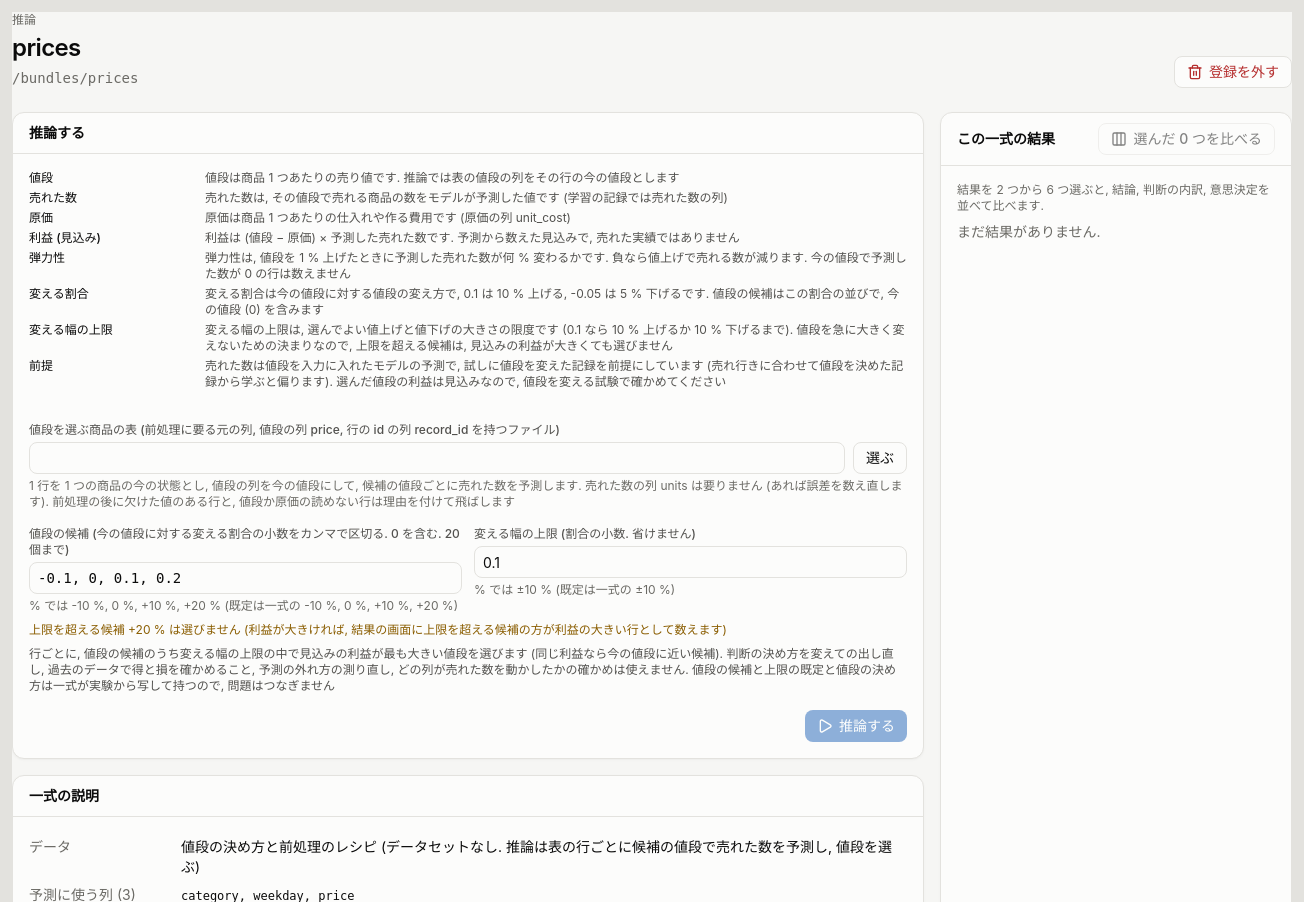
Test: 値段の一式の画面 › 候補と上限を確かめ, 行の表と値段の判断を渡して推論する
Later steps or results of the test are not shown.
Type "/data/products.csv" into the field labelled "値段を選ぶ商品の表" at (437, 458), box [29,442,845,474]
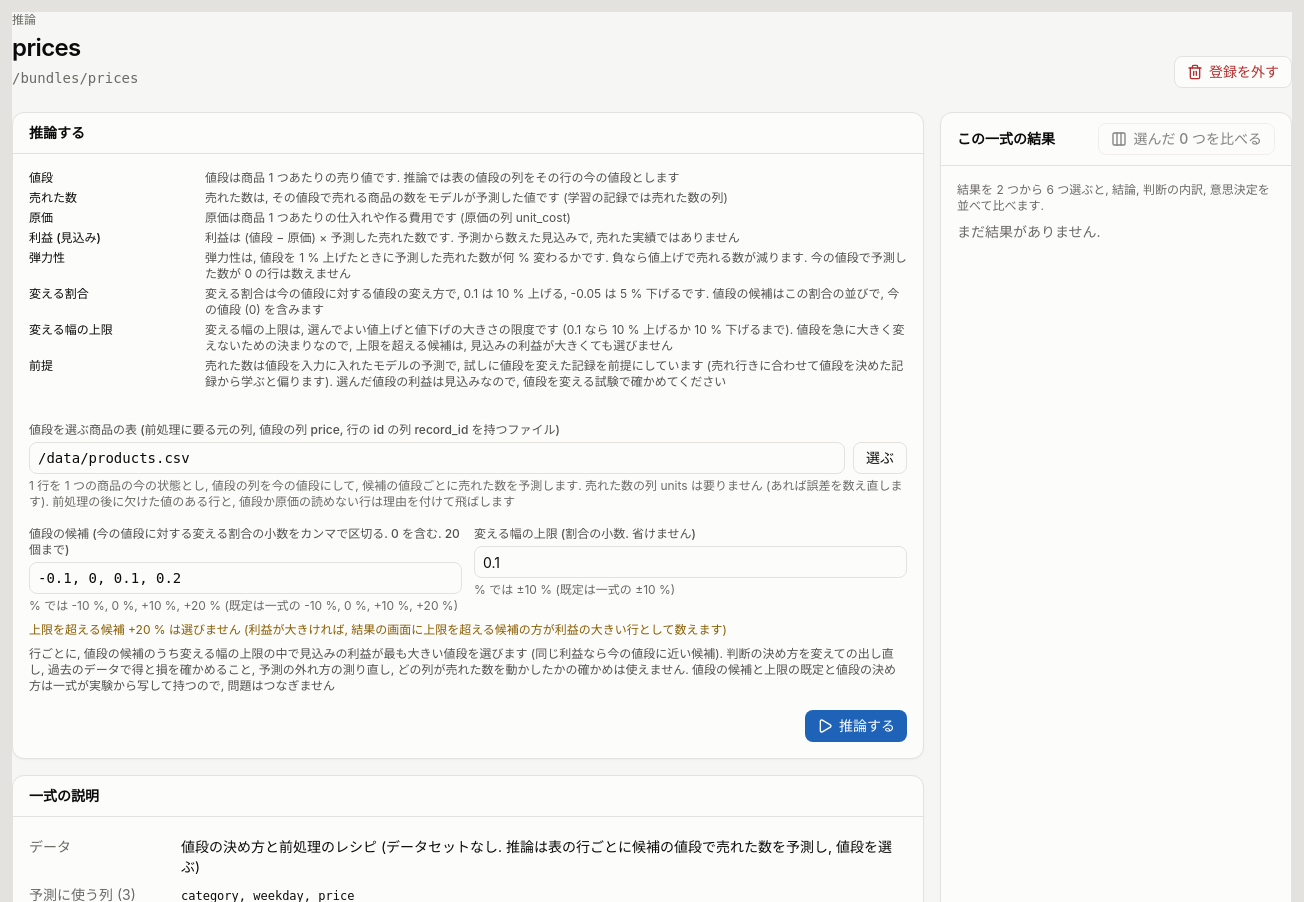
Replace the text in the field labelled "値段の候補 (今の値段に対する変える割合の小数をカンマで区切る. 0 を含む. 20 個まで)" with "0.1, 0.2" at (246, 578), box [29,562,462,594]
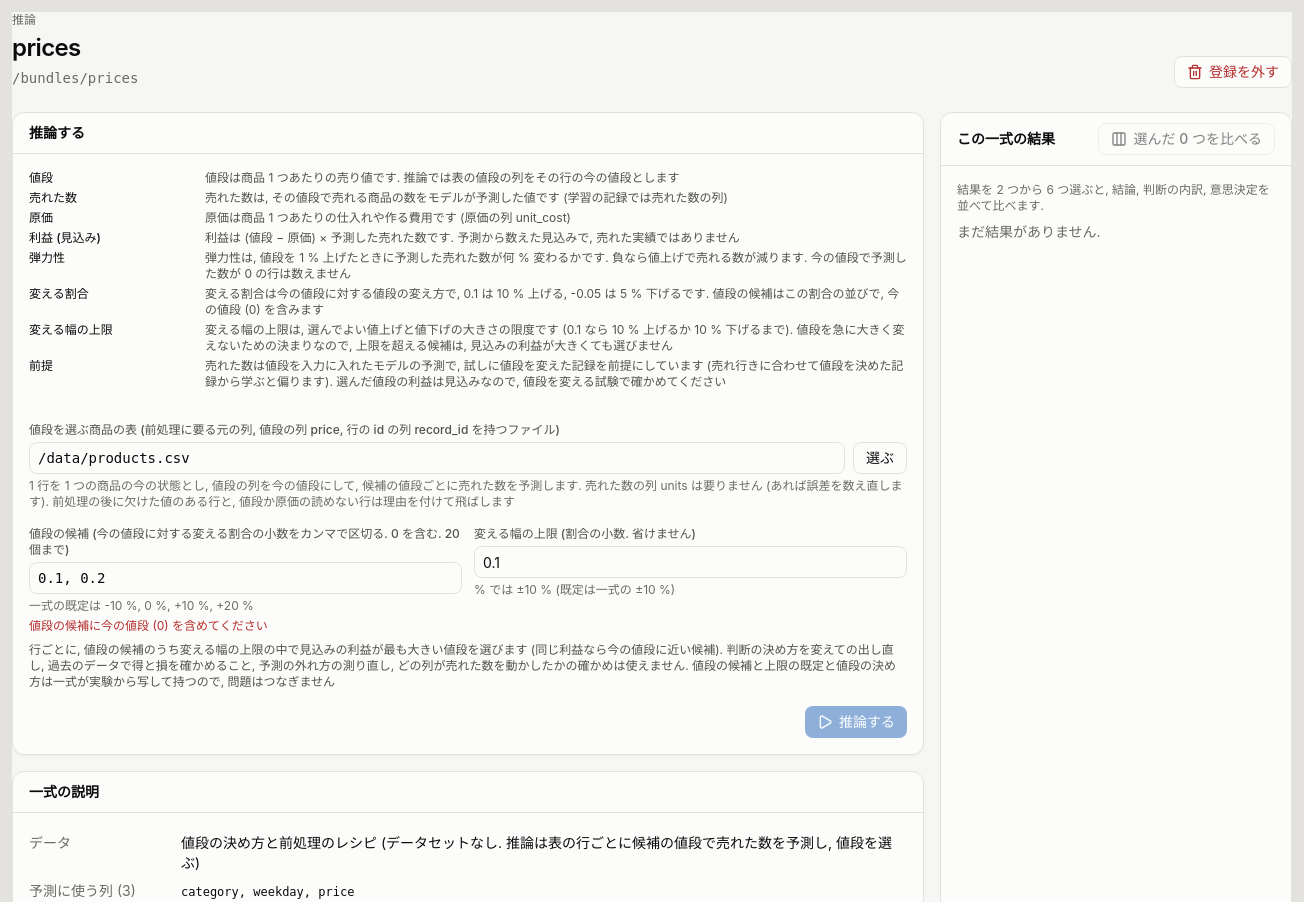
Expected: the text "一式の既定は -10 %, 0 %, +10 %, +20 %" is shown, [29,598,254,613]
Expected: the button "推論する" is disabled, [805,706,907,738]
Replace the text in the field labelled "値段の候補 (今の値段に対する変える割合の小数をカンマで区切る. 0 を含む. 20 個まで)" with "-0.05, 0, 0.05, 0.2" at (246, 578), box [29,562,462,594]
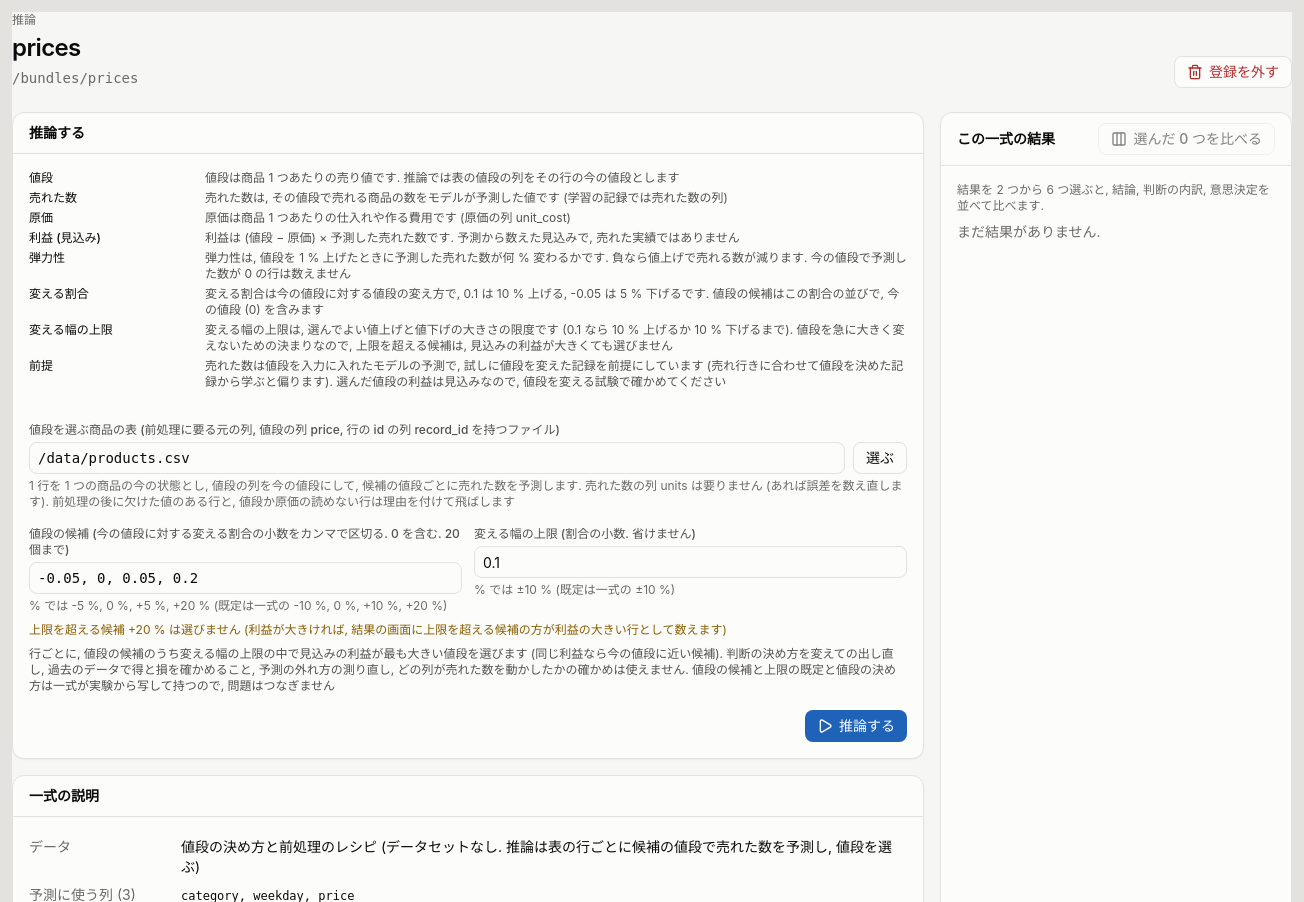
Clear the number field labelled "変える幅の上限 (割合の小数. 省けません)" at (690, 562), box [474,546,907,578]
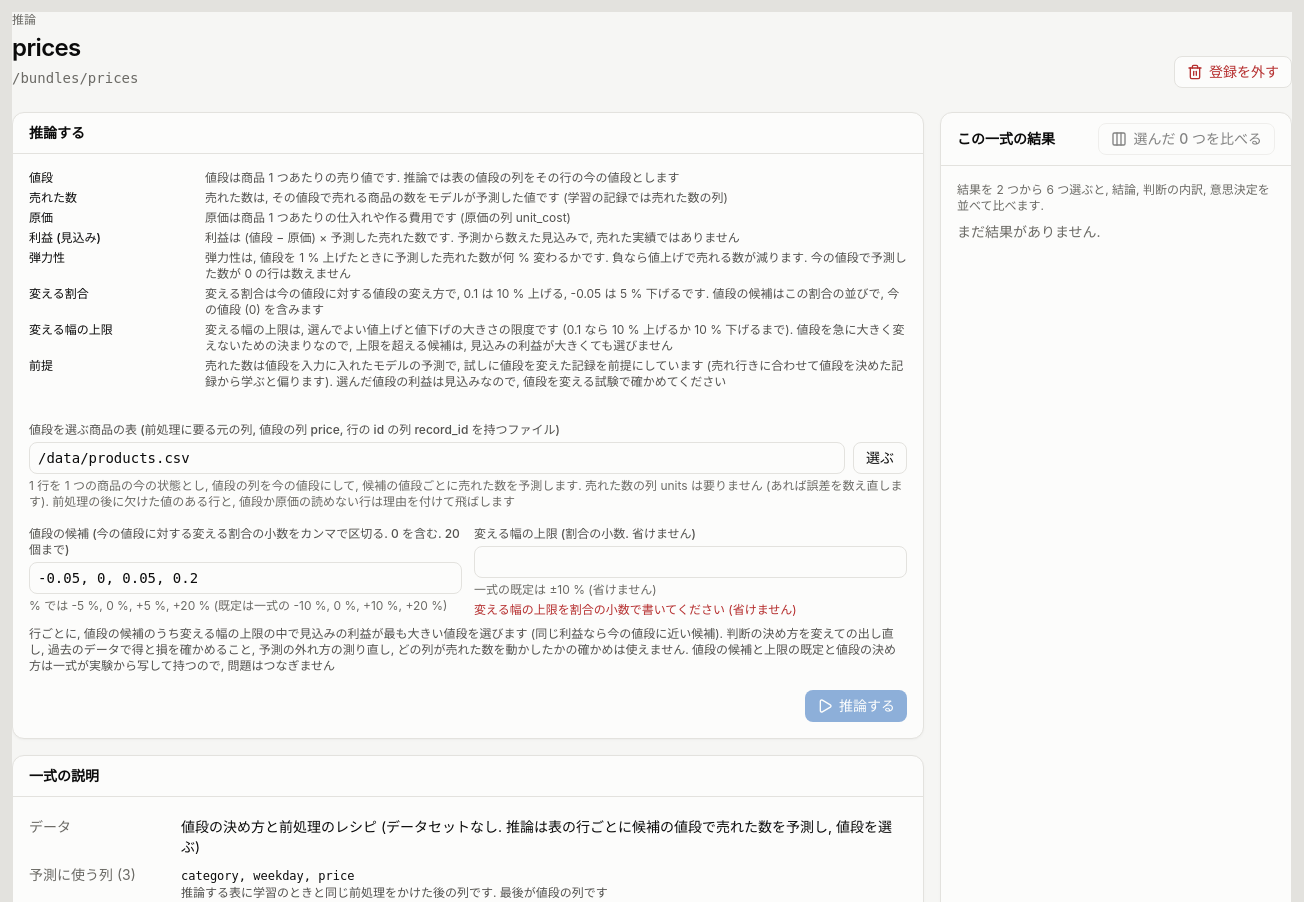
Expected: the text "一式の既定は ±10 % (省けません)" is shown, [474,582,657,597]
Expected: the button "推論する" is disabled, [805,690,907,722]
